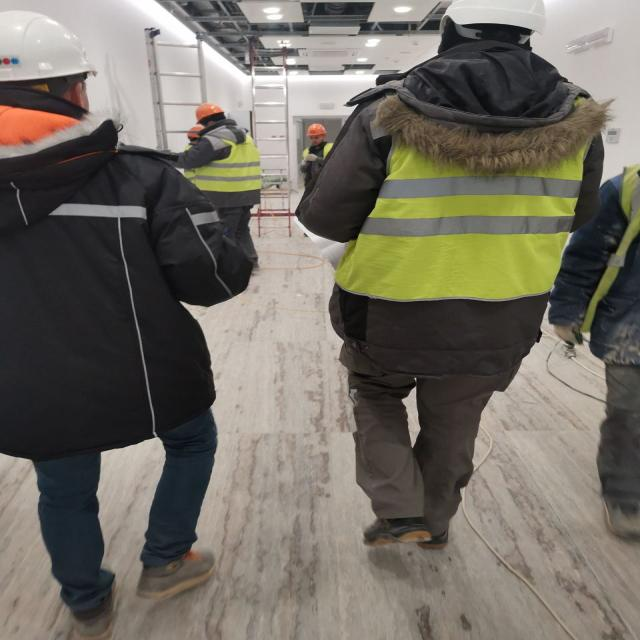Helmet: (1, 12, 102, 90), (438, 1, 545, 36), (197, 104, 226, 125), (308, 124, 328, 138)
Jacket: (360, 88, 586, 298), (593, 174, 640, 319), (198, 139, 260, 191)
